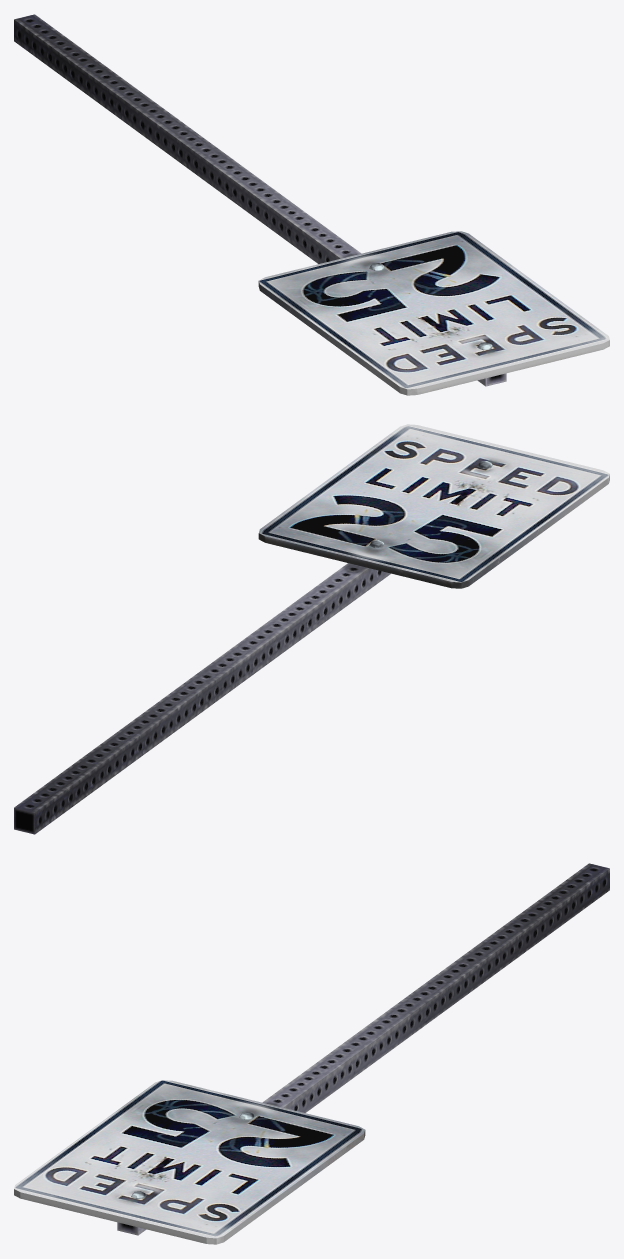
The model's file is bwspeedsign_wtf.obj.
The picture shows the model from 3 angles, top to bottom: view 1: azimuth 30°, elevation 25°; view 2: azimuth 150°, elevation 25°; view 3: azimuth 330°, elevation 25°; orthographic projection.
Parts seen in each view (by area): view 1: group2; view 2: group2; view 3: group2.
Boxes of the visible parts, x1,y1,x2,y2 form: group2: (14,14,609,395); group2: (14,424,609,834); group2: (14,863,609,1244).
Size of the model in its own units: 164 by 24.29 by 660.
